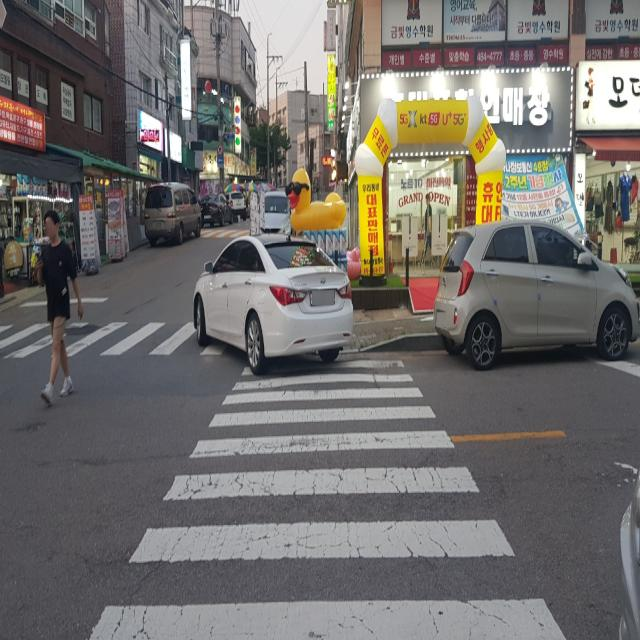횡단보도: (88, 360, 566, 640), (0, 300, 232, 360)
